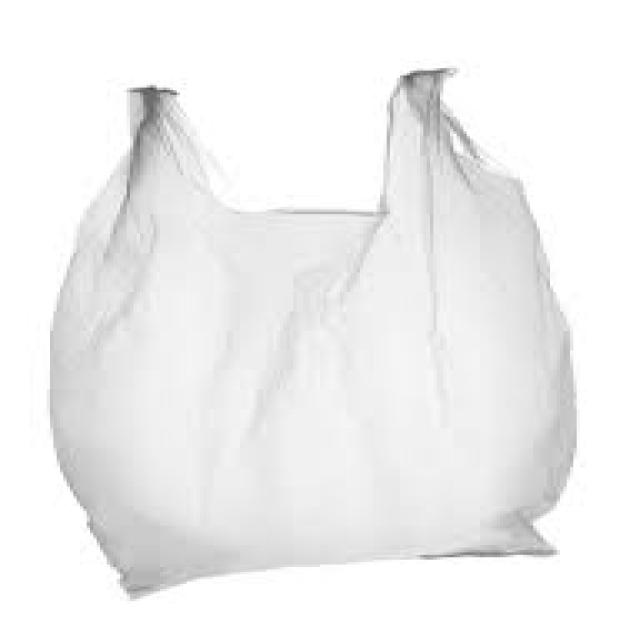residual: (35, 60, 588, 605)
